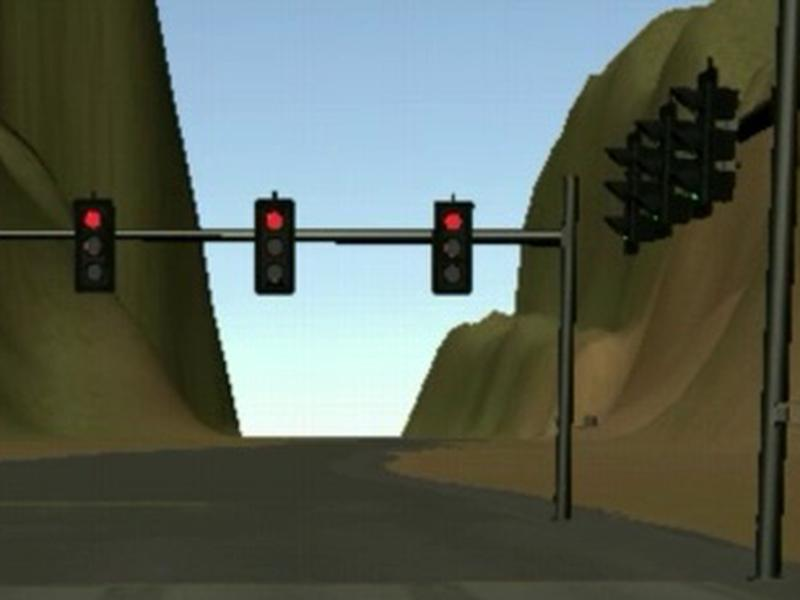Red: (254, 199, 295, 294), (74, 199, 113, 292), (433, 202, 472, 294)
